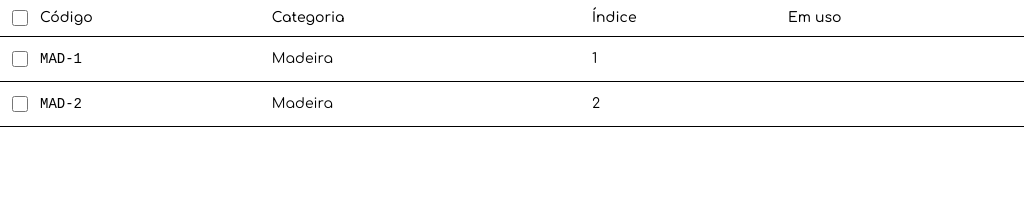
Test: FlagListTableFrame bulk delete › shows bulk delete after selecting a flag
Click the checkbox named "Selecionar MAD-1": point(20, 59) [12,51,28,67]
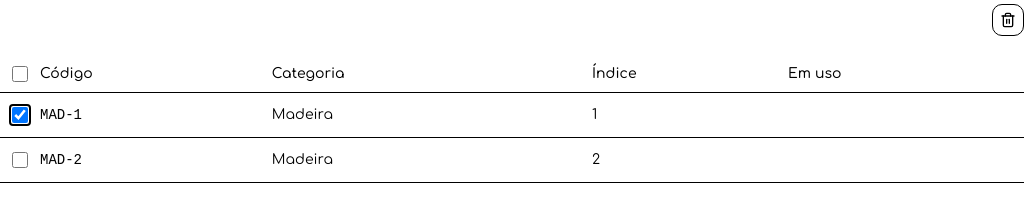
Expected: the button named "Excluir selecionadas" is shown, [992,4,1024,36]
